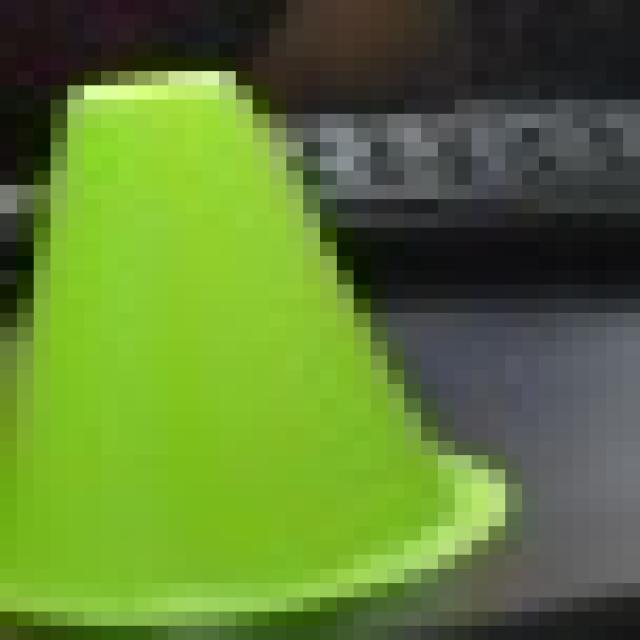cono: (0, 57, 505, 626)
